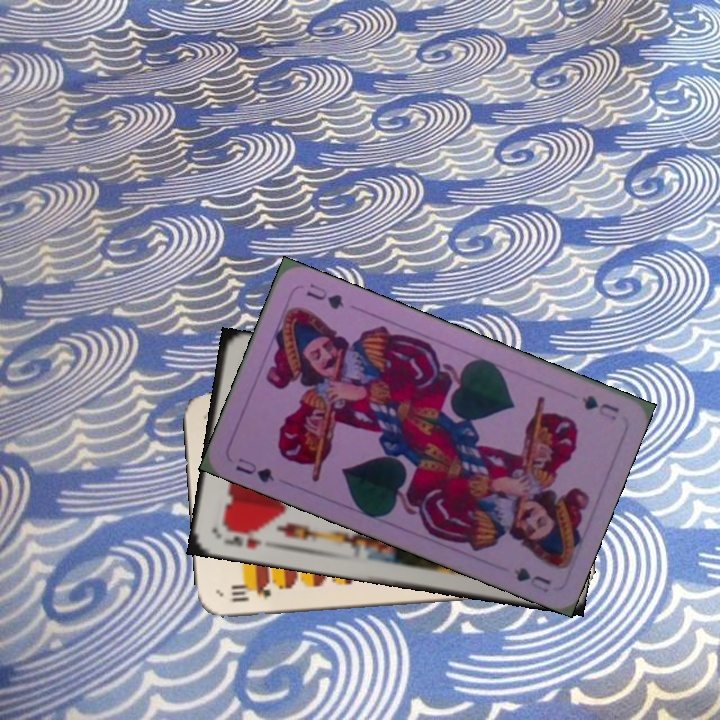E10: (227, 581, 273, 605)
GU: (231, 454, 277, 486), (578, 390, 622, 423)
HK: (219, 532, 265, 552)
